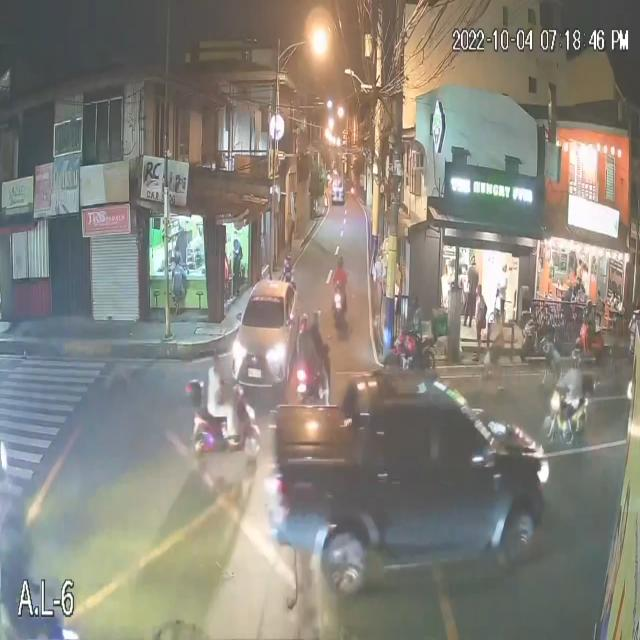Full-Faced: (308, 308, 322, 328), (298, 314, 310, 332), (284, 254, 294, 275), (336, 255, 345, 277)
Not-Wearing-Helmet: (207, 349, 222, 376)
